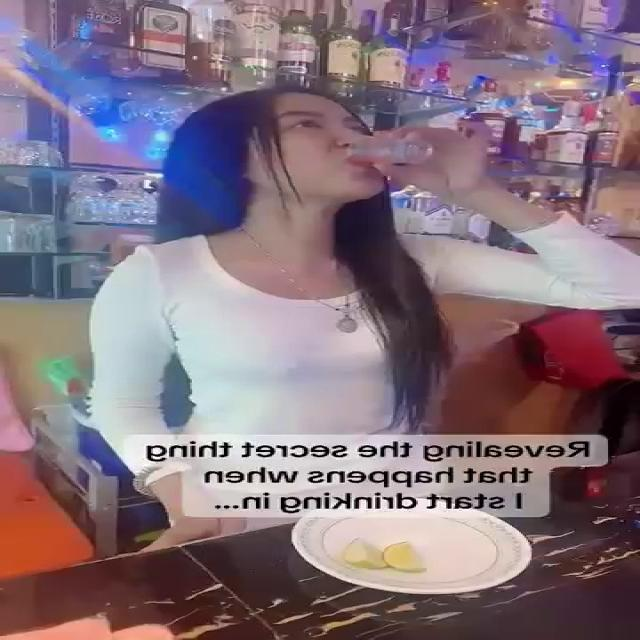Cup: (348, 138, 428, 162)
Hand: (373, 115, 492, 207)
Mouth: (339, 152, 385, 174)
